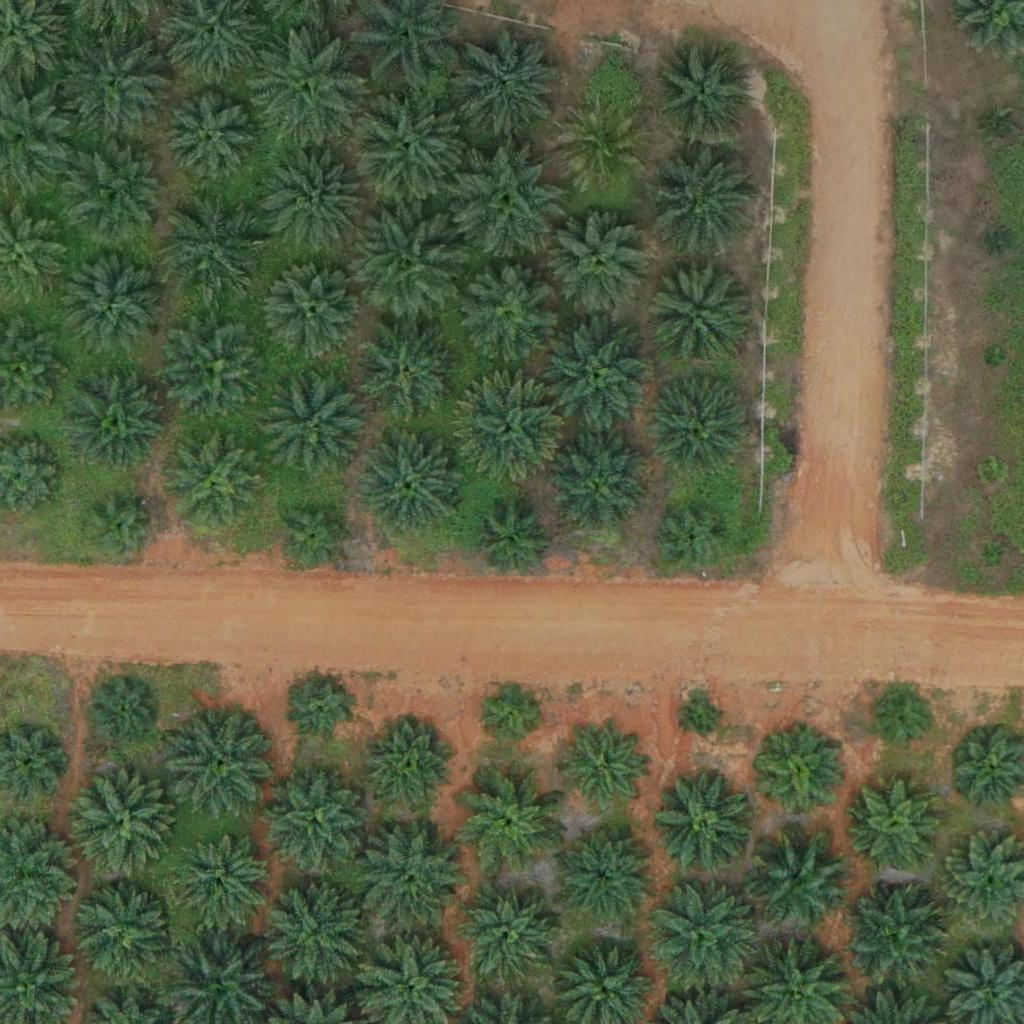Kelapa_Sawit: (454, 28, 567, 142), (452, 144, 565, 258), (841, 880, 954, 994), (541, 317, 654, 430), (56, 23, 169, 136), (352, 85, 464, 199), (454, 378, 566, 491), (649, 143, 761, 256), (349, 210, 461, 323), (252, 32, 364, 145), (647, 874, 759, 987), (651, 43, 751, 144), (548, 435, 648, 536), (357, 326, 457, 427), (361, 433, 461, 534), (263, 149, 363, 250), (264, 262, 364, 363), (264, 371, 364, 472), (163, 194, 263, 295), (165, 320, 265, 421), (165, 432, 265, 533), (71, 144, 171, 245), (65, 252, 165, 353), (66, 374, 166, 475), (72, 770, 172, 871), (71, 885, 171, 986), (174, 711, 274, 812), (168, 832, 268, 933), (265, 768, 365, 869), (265, 880, 365, 981), (360, 825, 460, 926), (462, 772, 562, 873), (457, 887, 557, 988), (554, 824, 654, 925), (646, 263, 746, 363), (651, 377, 751, 477), (552, 216, 652, 316), (458, 266, 558, 366), (654, 769, 754, 869), (749, 827, 849, 927), (557, 106, 645, 194), (559, 724, 647, 812), (852, 779, 940, 867), (165, 96, 252, 184), (371, 721, 458, 809), (758, 733, 845, 821), (657, 499, 732, 575), (83, 491, 158, 567), (475, 505, 550, 580), (279, 499, 354, 574), (92, 680, 155, 743), (292, 678, 354, 741), (478, 679, 540, 742), (873, 691, 935, 754), (685, 699, 722, 737), (986, 116, 1011, 141), (986, 229, 1011, 254), (982, 347, 1007, 372), (978, 459, 1003, 484), (981, 543, 1006, 568)
